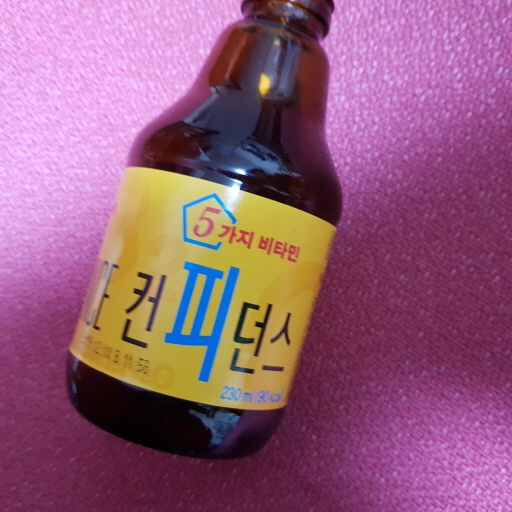Glass_3: (70, 1, 347, 461)
